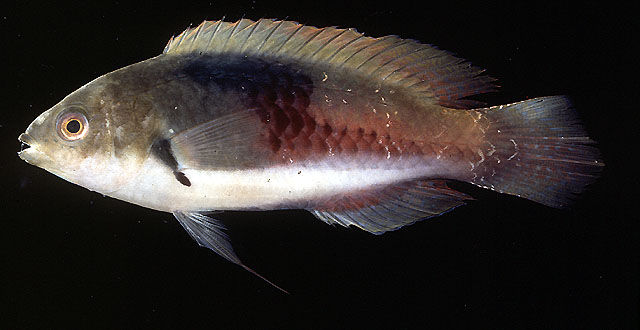fish: (18, 18, 599, 296)
